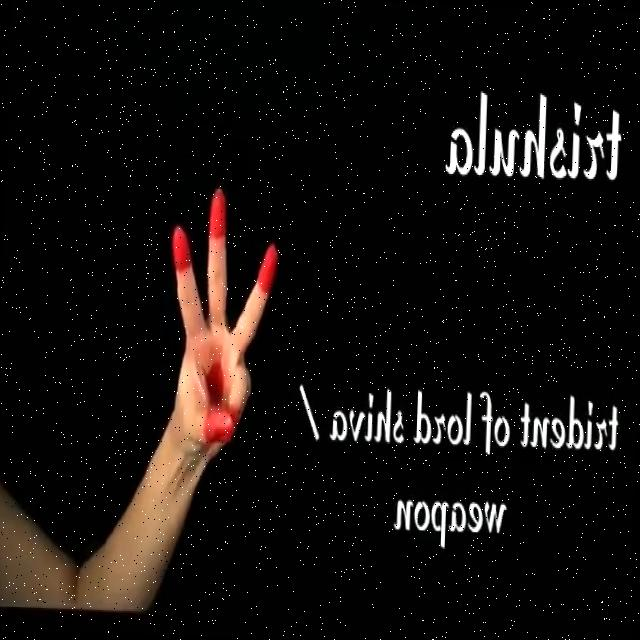Trishula: (130, 126, 300, 485)
text: (290, 370, 628, 568), (436, 76, 634, 202)
